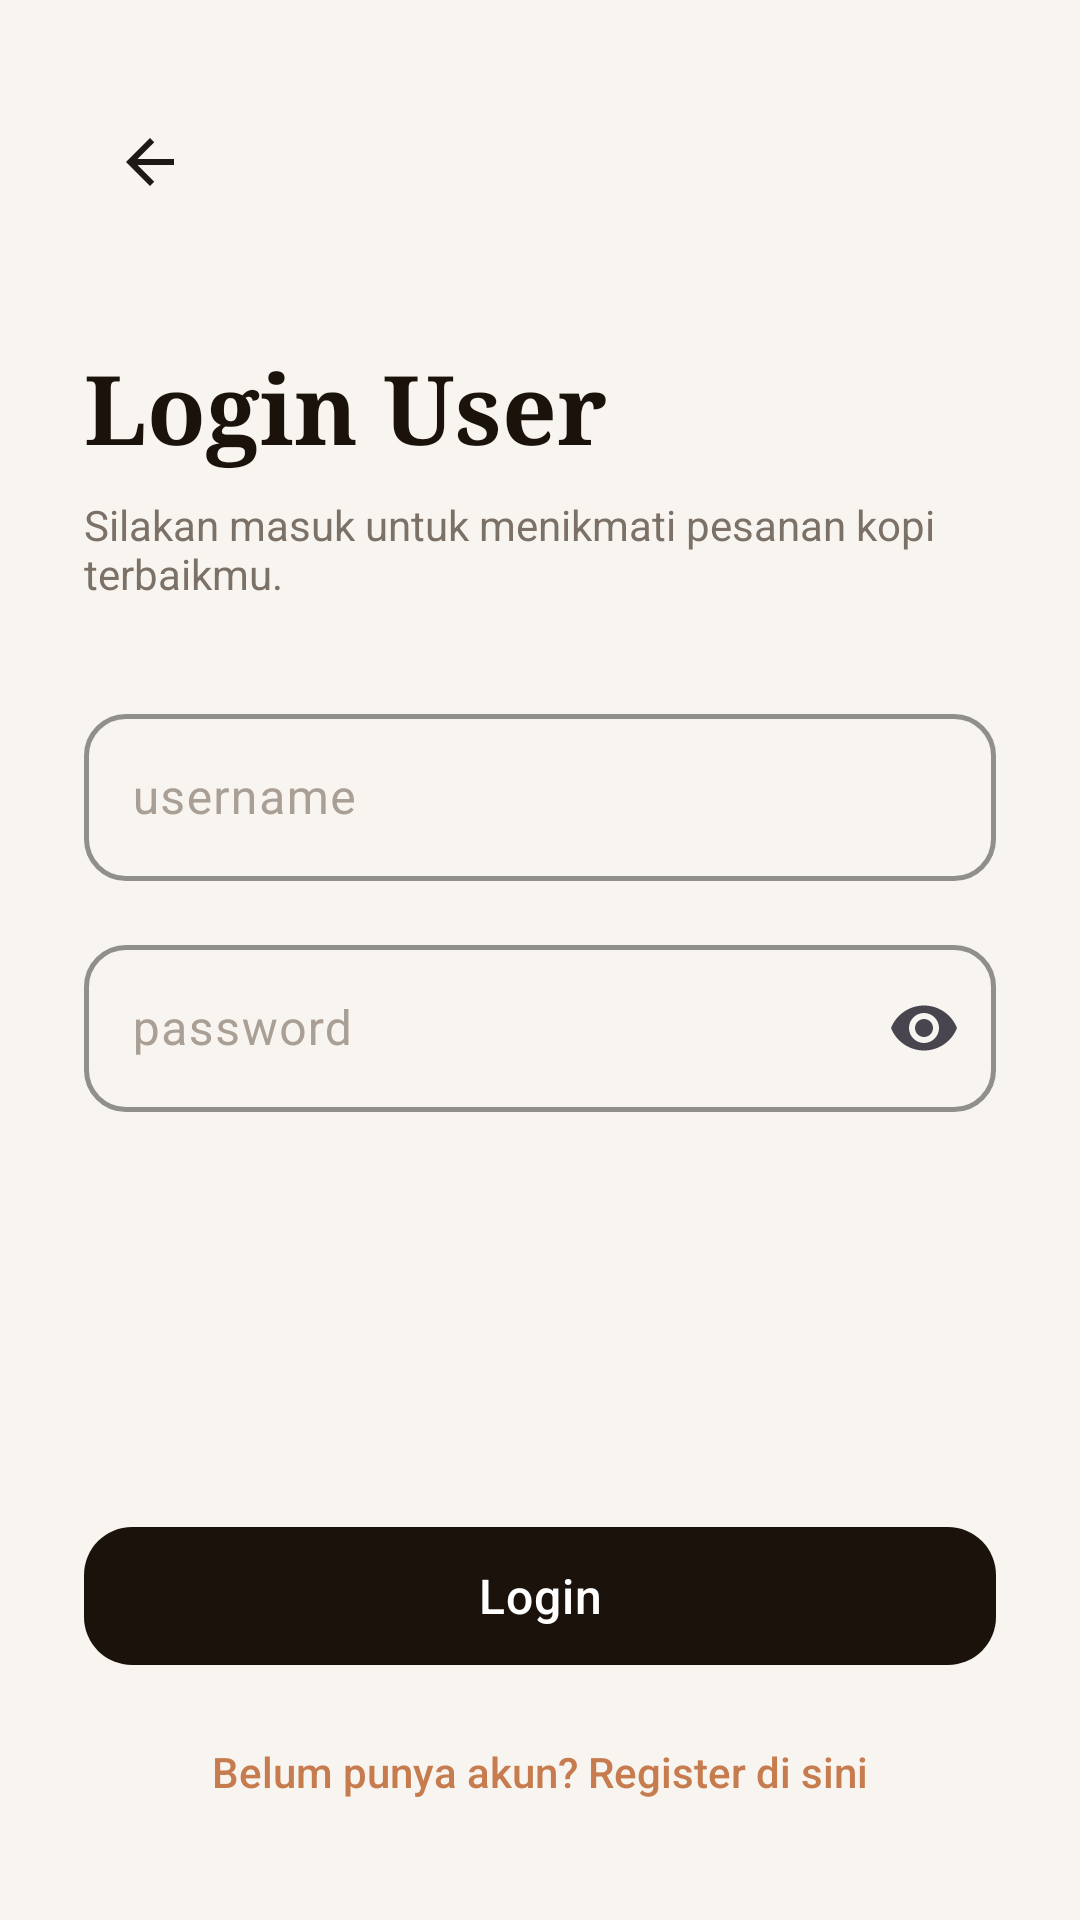

Locate icon controls on the screen. Image size 1080px x 1920px, boxes as [x1, y1, x2, y2].
Kembali: [126, 138, 174, 186]
